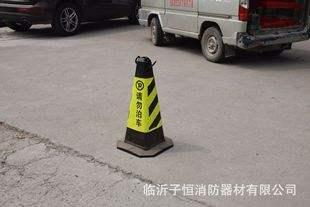sign: (118, 53, 182, 167)
